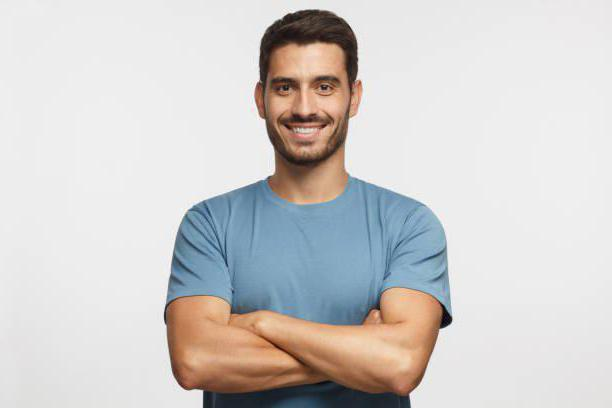Sober: (265, 47, 342, 160)
